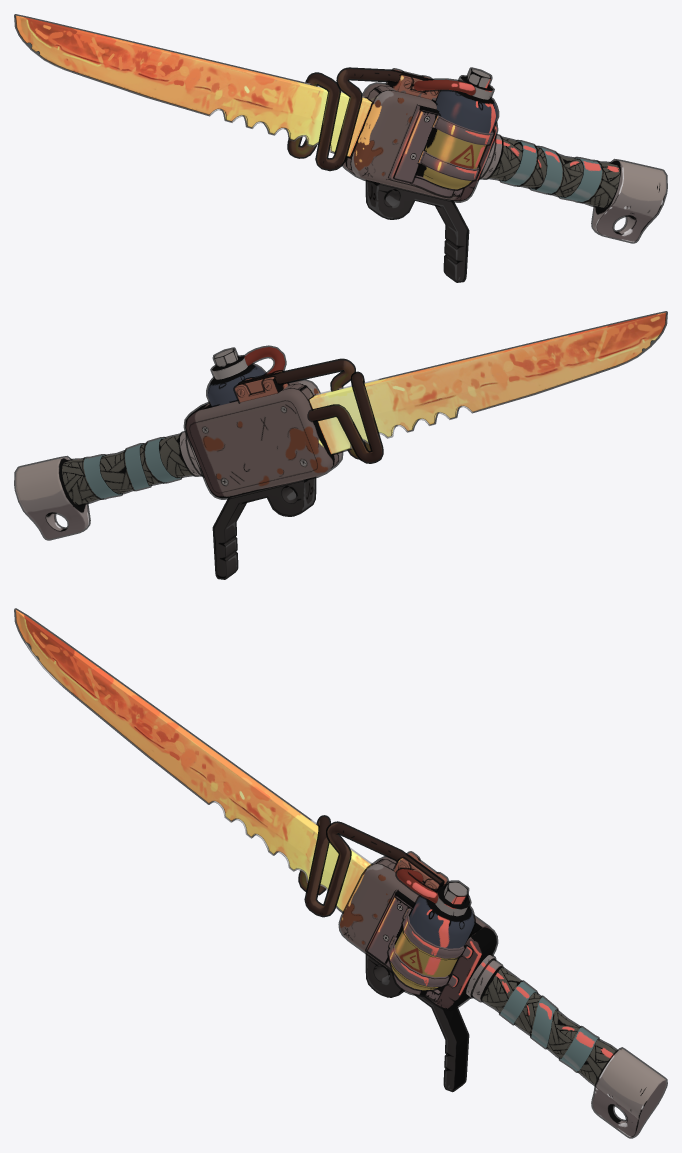
File: wasteland_sword.glb
The picture shows the model from 3 angles, top to bottom: view 1: azimuth 30°, elevation 25°; view 2: azimuth 150°, elevation 25°; view 3: azimuth 330°, elevation 25°; orthographic projection.
Parts seen in each view (by area): view 1: Object_3, Object_2; view 2: Object_3, Object_2; view 3: Object_3, Object_2.
Boxes of the visible parts, x1,y1,x2,y2 form: Object_3: [15, 15, 666, 280]; Object_2: [14, 14, 667, 282]; Object_3: [15, 312, 666, 577]; Object_2: [14, 311, 667, 579]; Object_3: [15, 610, 666, 1137]; Object_2: [14, 608, 667, 1138].
Size of the model in its own units: 1.09 by 0.6046 by 0.1154.
Materials: 2 (1 with a texture image).
